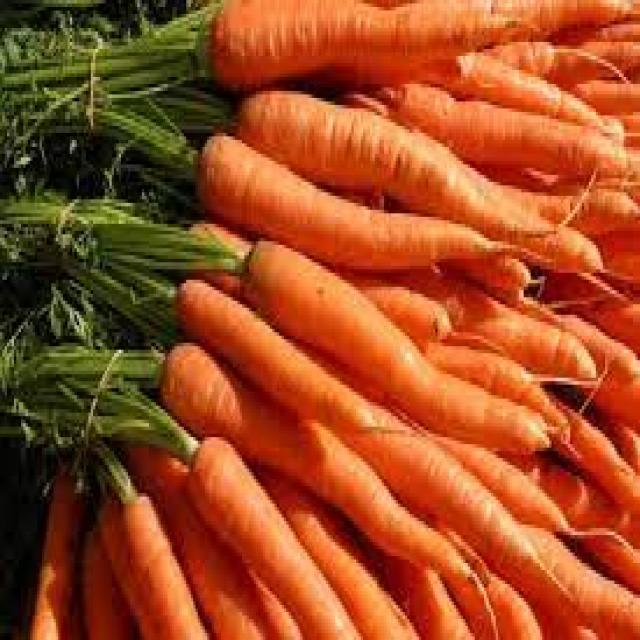Carrot: (211, 2, 506, 81)
